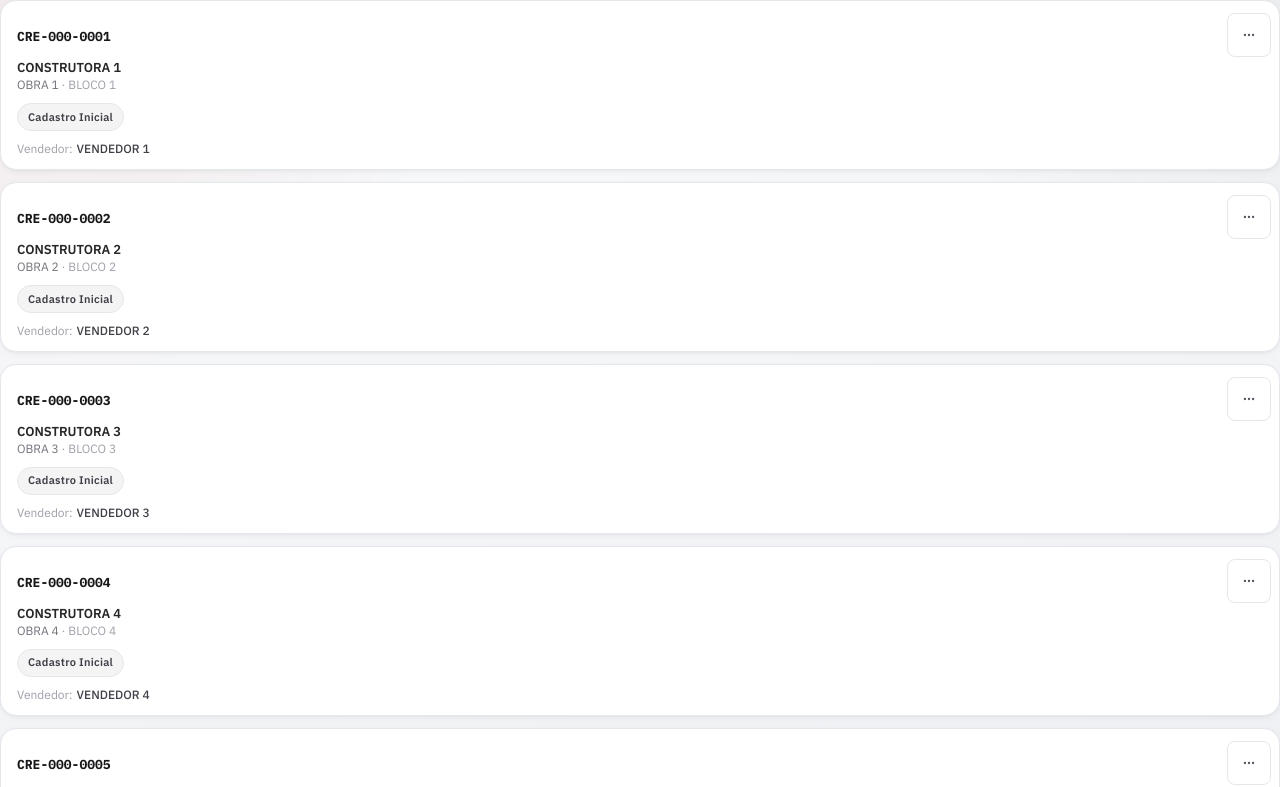
it: card: abertura, menu e permissões › ⋯ abre o menu e NÃO abre o projeto; alvo de 44px
What coordinates should you click on to do the following:
click the 1st button named "Abrir acoes do projeto"
I would click on:
 (1249, 35)
Its box is [1227, 13, 1271, 57].
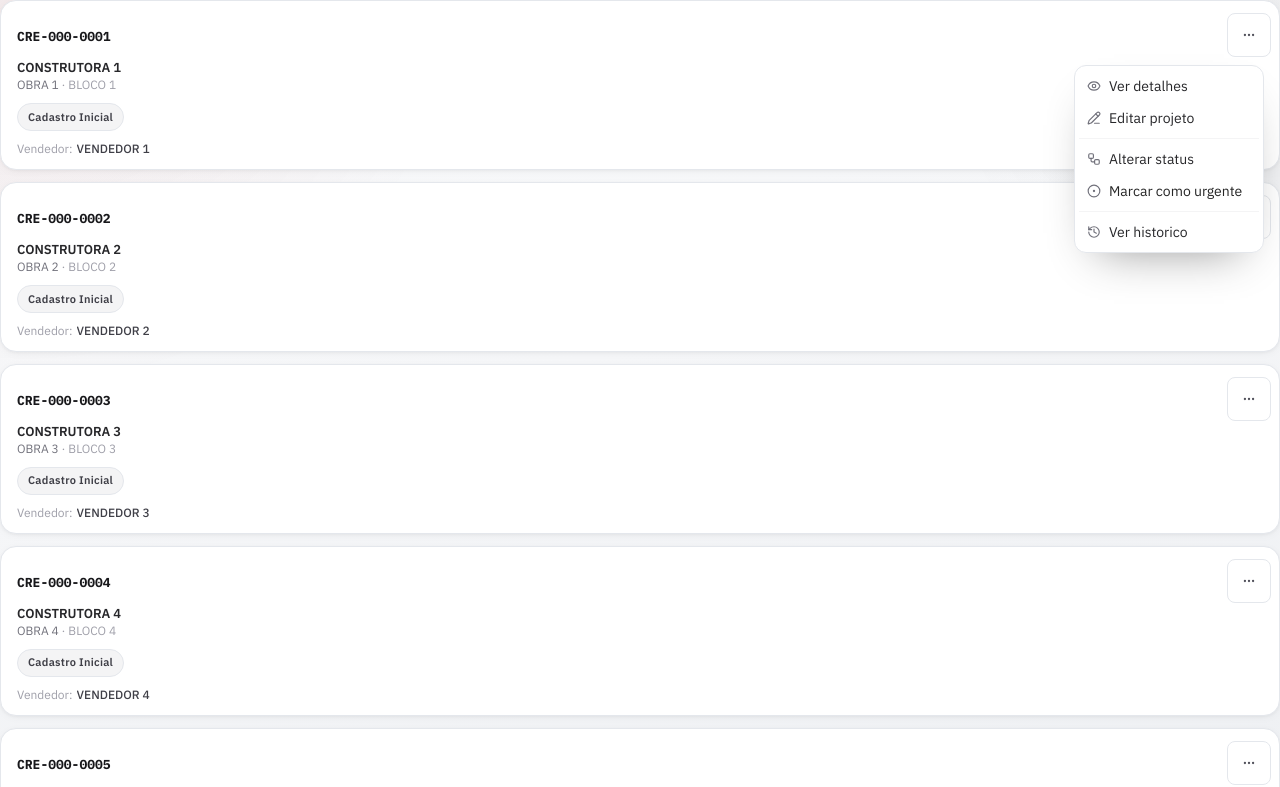
Result: the menu item "Ver detalhes" is shown at [1087, 77, 1188, 95]
